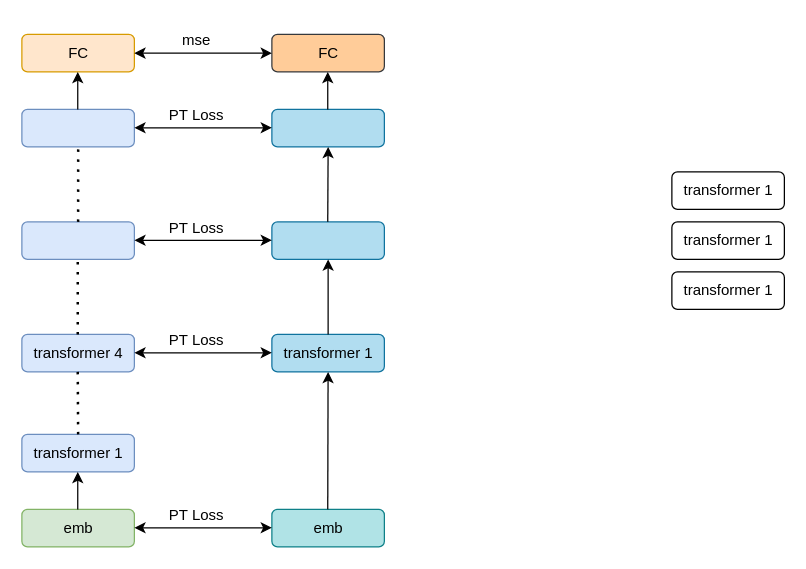
Image size: 806x569. Some labels were removed from this diagram. The shapes that lost their labels are listed below. From the top down, each one's box as (x1, y1, x2, y2) in pixels, then its label:
(21, 108, 134, 147): transformer 12
(271, 108, 384, 147): transformer 3
(21, 221, 134, 259): transformer 8
(271, 221, 384, 259): transformer 2
